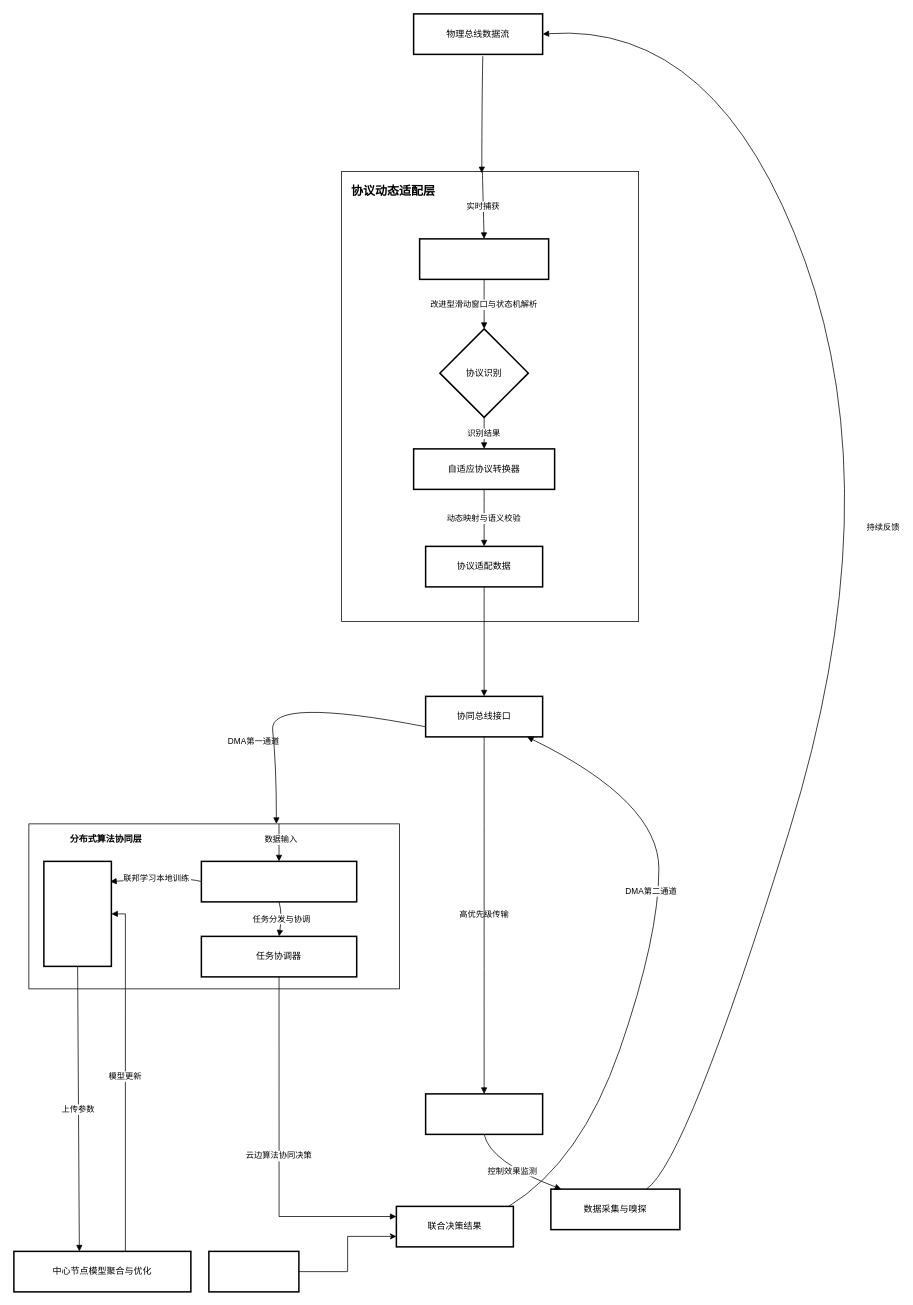
Some shapes in this 913 by 1305 pixel diagram are drawn without their labels. The shapes that lost their labels are listed below. From the top down, each one's centre as x and y in pixels, then its label:
At [483,259]: "多协议嗅探引擎".
At [278,881]: "自学习模块".
At [77,913]: "本地模型参数".
At [483,1114]: "机电设备控制".
At [253,1271]: "中心节点协调器".
